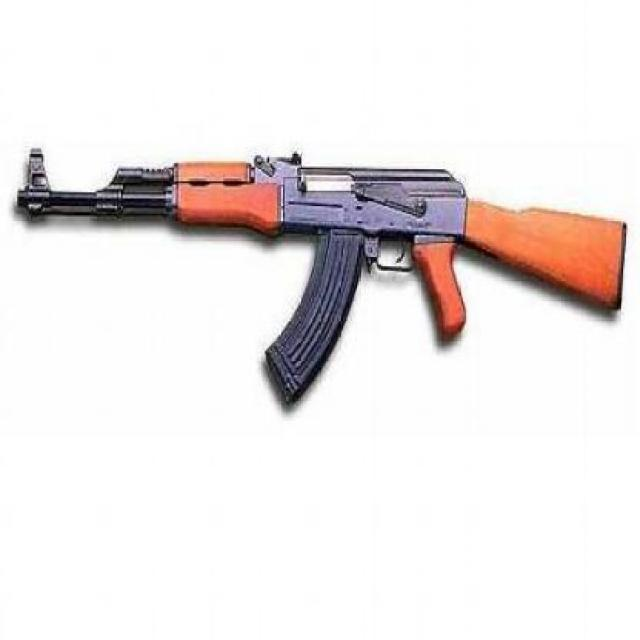weapon: (13, 146, 630, 412)
